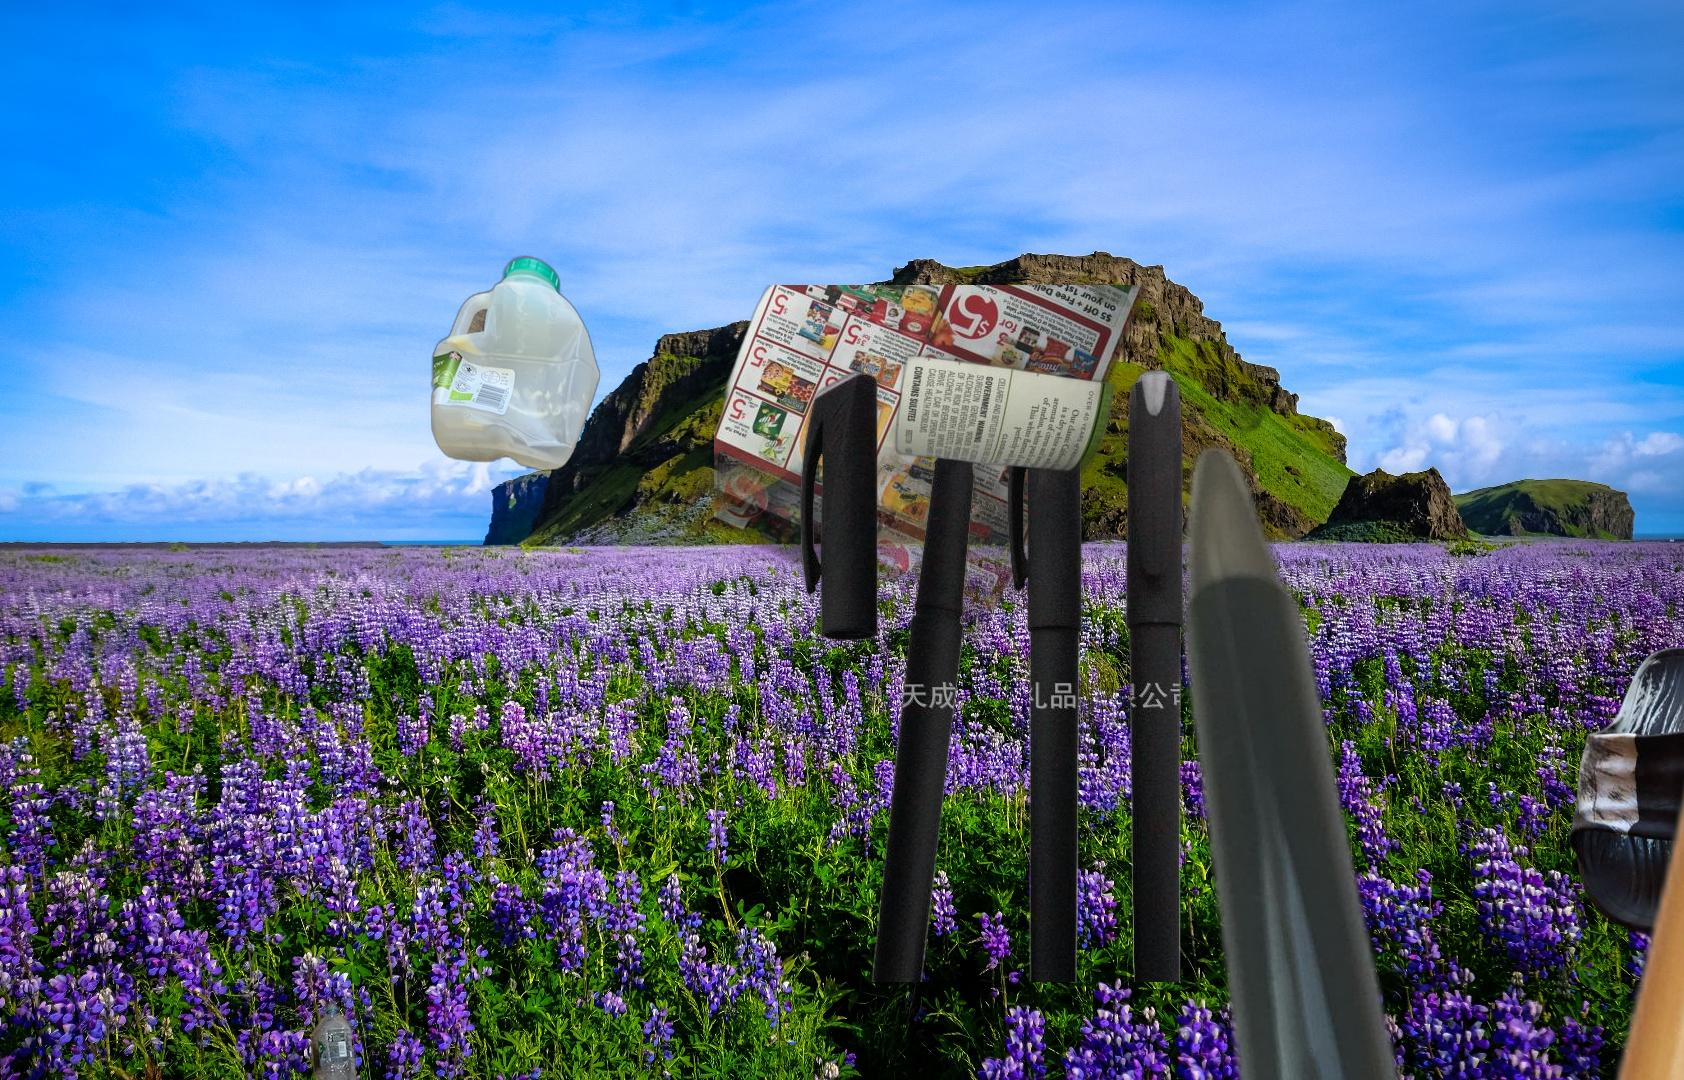glass: (761, 227, 1273, 493)
paper: (714, 285, 1160, 669)
penholder: (1033, 406, 1684, 1080), (772, 364, 1234, 982)
plastic-bottles: (428, 250, 605, 477), (307, 998, 367, 1080)
shoes: (1565, 636, 1684, 950)
